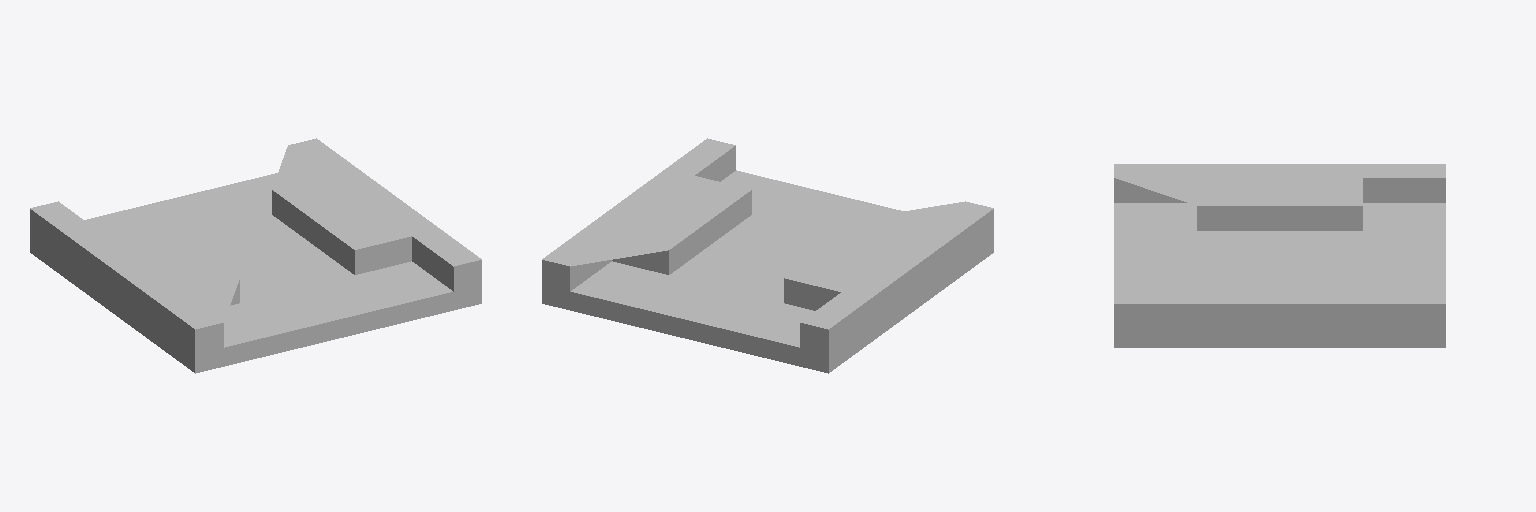
The model's file is Narrow_block_01.obj.
3 views of the same model, side by side, from view 1: azimuth 30°, elevation 25°; view 2: azimuth 150°, elevation 25°; view 3: azimuth 270°, elevation 25° (orthographic).
Parts seen in each view (by area): view 1: Mesh1 Narrow_block Model; view 2: Mesh1 Narrow_block Model; view 3: Mesh1 Narrow_block Model.
Boxes of the visible parts, x1=… form: Mesh1 Narrow_block Model: x1=30, y1=138, x2=481, y2=373; Mesh1 Narrow_block Model: x1=542, y1=138, x2=993, y2=373; Mesh1 Narrow_block Model: x1=1114, y1=164, x2=1445, y2=347.
Size of the model in its own units: 3 by 0.44 by 3.